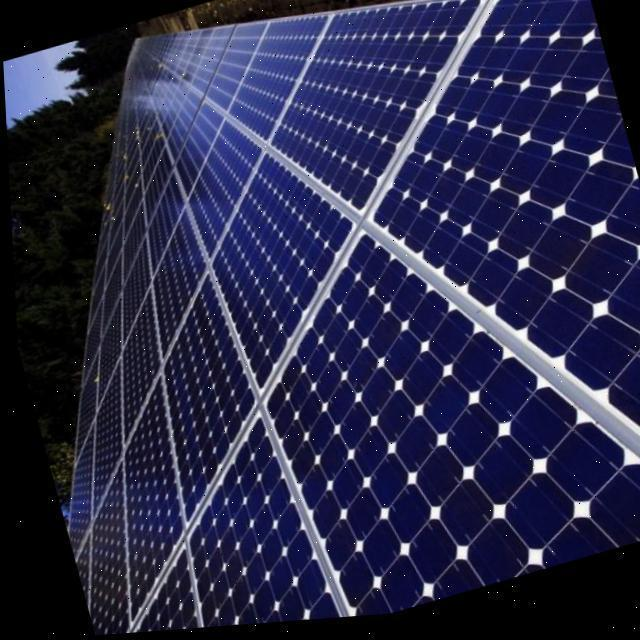Structural Damage: (61, 0, 640, 636)
Surface Contaminant: (109, 148, 137, 195), (94, 197, 116, 227), (141, 123, 162, 148), (128, 121, 144, 149), (148, 60, 166, 77), (174, 70, 188, 83)
